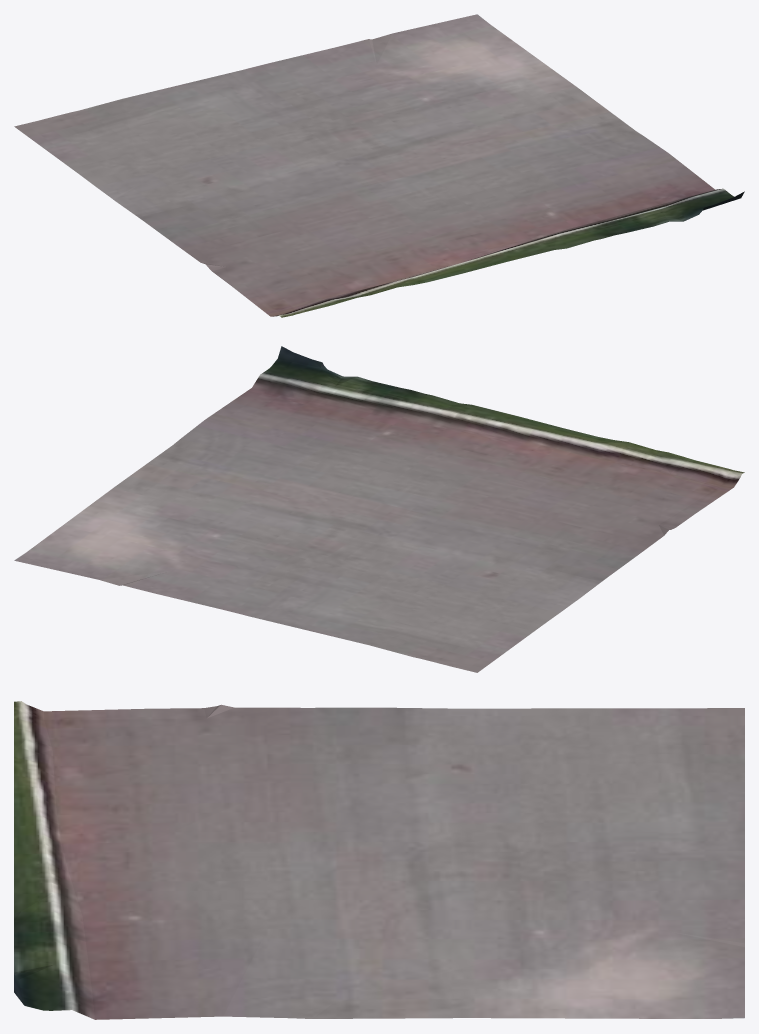
File: helsinki-6-5.glb
3 views of the same model, one above another, from view 1: azimuth 30°, elevation 25°; view 2: azimuth 150°, elevation 25°; view 3: azimuth 270°, elevation 25° (orthographic). The views are drawn at different scales.
Bounding box in the file's own units: 31.75 × 1.37 × 31.75.
Materials: 1 (1 with a texture image).
